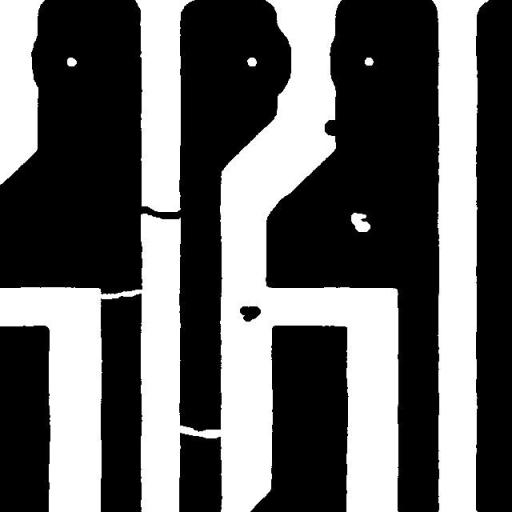copper: (232, 298, 268, 329)
open: (166, 418, 232, 446), (85, 282, 152, 306)
pin-hole: (343, 205, 378, 239)
short: (130, 198, 194, 226)
spur: (316, 112, 346, 143)
